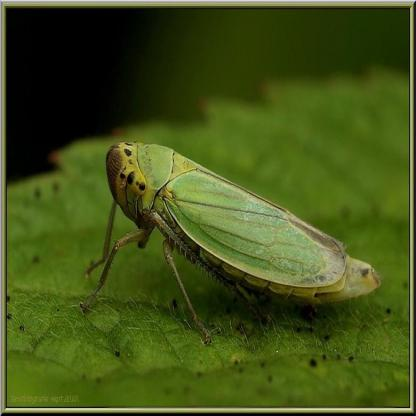Green-Leafhopper: (82, 136, 381, 344)
